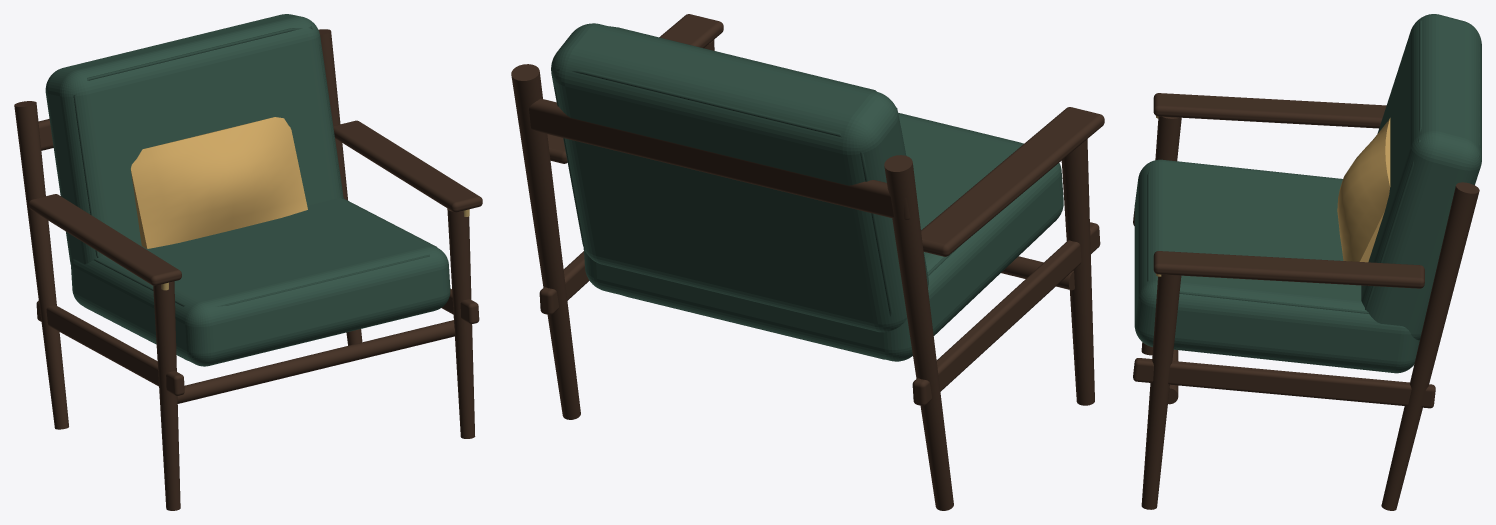
File: atelier-timber-moss.glb
3 renders of one model, left to right at view 1: azimuth 30°, elevation 25°; view 2: azimuth 150°, elevation 25°; view 3: azimuth 270°, elevation 25°, orthographic. The views are drawn at different scales.
Bounding box in the file's own units: 0.844 × 0.81 × 0.7149.
